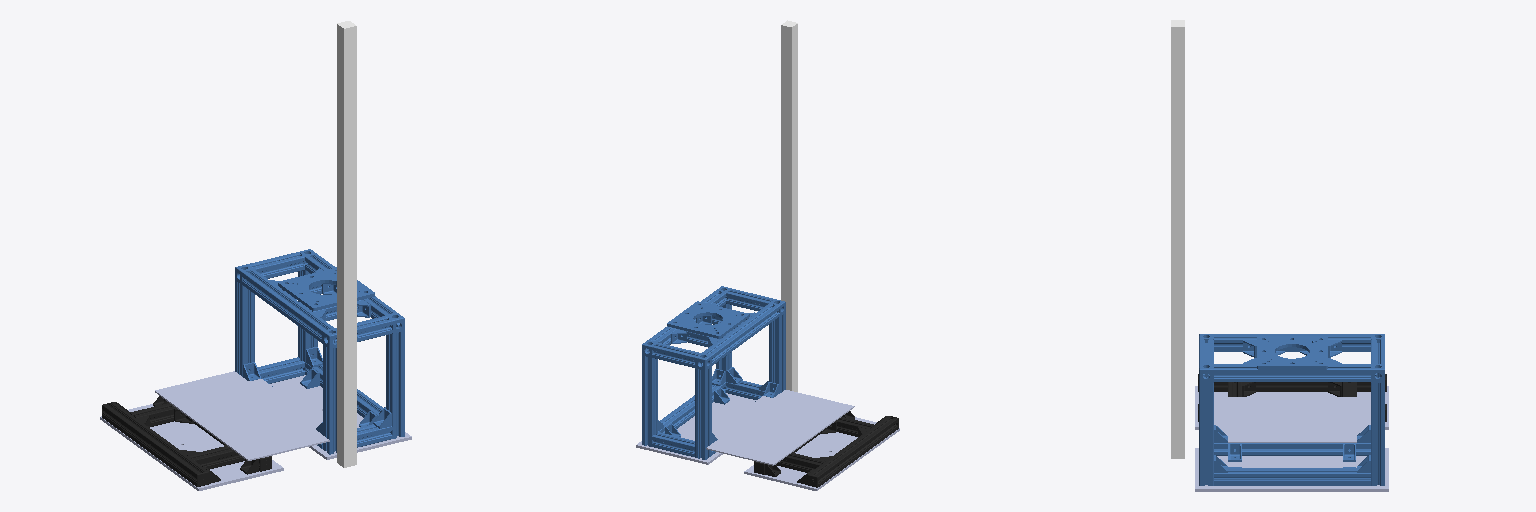
robot.urdf — leeloo_structure:
<?xml version="1.0"?>
<!-- =================================================================================
  leeloo_structure.urdf — Pont statique entre le Ridgeback et le bras Doosan.

  Publié au runtime par un robot_state_publisher dans le namespace `leeloo`
  (tous joints fixes → /leeloo/tf_static). C'est le maillon manquant de l'arbre
  TF unifié : le Ridgeback publie jusqu'à `default_mount`, le Doosan publie
  `dsr01/world → base_link → link_1…`, et cette structure relie
  `default_mount → … → robot_mount → dsr01/world`.

  - `default_mount` est la racine (frame RÉELLEMENT publiée par le Ridgeback :
    riser_link → default_mount, z=0.075). ATTENTION : le leeloo.urdf modèle
    utilise `mid_mount` (z=0.060), qui n'existe PAS sur le robot réel — ne pas
    le réintroduire ici sous peine de casser le parsing RSP.
  - `dsr01/world` est la base du bras (frame dont le Doosan publie les enfants).

  Géométrie identique à la portion structure de leeloo.urdf (source de vérité curobo).
================================================================================= -->
<robot name="leeloo_structure">

  <!-- Racine : frame publiée par le Ridgeback (riser_link → default_mount). -->
  <link name="default_mount"/>

  <link name="structure_base">
    <inertial>
      <origin xyz="0.00053394 -0.00074037 0.057025" rpy="0 0 0" />
      <mass value="0.93175" />
      <inertia ixx="0.025261" ixy="-3.427E-05" ixz="-1.0125E-20" iyy="0.0080646" iyz="-7.6497E-20" izz="0.033322" />
    </inertial>
    <visual>
      <origin xyz="0 0 0" rpy="0 0 0" />
      <geometry>
        <mesh filename="package://urdf_visualizer/meshes/structure_base.STL" />
      </geometry>
      <material name=""><color rgba="0.79216 0.81961 0.93333 1" /></material>
    </visual>
    <collision>
      <origin xyz="0 0 0" rpy="0 0 0" />
      <geometry>
        <mesh filename="package://urdf_visualizer/meshes/structure_base.STL" />
      </geometry>
    </collision>
  </link>
  <joint name="structure_base_joint" type="fixed">
    <origin xyz="0 0 0" rpy="0 0 0" />
    <!-- Frame réellement publiée par le Ridgeback (riser_link → default_mount,
         z=0.075). Le leeloo.urdf modèle utilisait `mid_mount` (z=0.060, absent du
         robot réel) → RSP échouait au parsing. On s'aligne sur la TF physique. -->
    <parent link="default_mount" />
    <child link="structure_base" />
    <axis xyz="0 0 0" />
  </joint>

  <link name="front_plate">
    <inertial>
      <origin xyz="0.0001243 -4.5103E-17 0.0047625" rpy="0 0 0" />
      <mass value="1.7643" />
      <inertia ixx="0.054775" ixy="-9.9446E-19" ixz="1.7219E-20" iyy="0.013677" iyz="-1.2771E-20" izz="0.068426" />
    </inertial>
    <visual>
      <origin xyz="0 0 0" rpy="0 0 0" />
      <geometry>
        <mesh filename="package://urdf_visualizer/meshes/front_plate.STL" />
      </geometry>
      <material name=""><color rgba="0.79216 0.81961 0.93333 1" /></material>
    </visual>
    <collision>
      <origin xyz="0 0 0" rpy="0 0 0" />
      <geometry>
        <mesh filename="package://urdf_visualizer/meshes/front_plate.STL" />
      </geometry>
    </collision>
  </link>
  <joint name="front_plate_joint" type="fixed">
    <origin xyz="0.26401 0 0" rpy="0 0 0" />
    <parent link="structure_base" />
    <child link="front_plate" />
    <axis xyz="0 0 0" />
  </joint>

  <link name="front_structure">
    <inertial>
      <origin xyz="0 -0.0047667 0.21635" rpy="0 0 0" />
      <mass value="3.0506" />
      <inertia ixx="0.030259" ixy="-3.6628E-11" ixz="1.9467E-16" iyy="0.010629" iyz="1.9469E-16" izz="0.02365" />
    </inertial>
    <visual>
      <origin xyz="0 0 0" rpy="0 0 0" />
      <geometry>
        <mesh filename="package://urdf_visualizer/meshes/front_structure.STL" />
      </geometry>
      <material name=""><color rgba="0.33725 0.52941 0.75686 1" /></material>
    </visual>
    <collision>
      <origin xyz="0 0 0" rpy="0 0 0" />
      <geometry>
        <mesh filename="package://urdf_visualizer/meshes/front_structure.STL" />
      </geometry>
    </collision>
  </link>
  <joint name="front_structure_joint" type="fixed">
    <origin xyz="0 0 0.011925" rpy="0 0 0" />
    <parent link="front_plate" />
    <child link="front_structure" />
    <axis xyz="0 0 0" />
  </joint>

  <link name="robot_mount">
    <inertial>
      <origin xyz="3.6942E-09 1.9231E-09 -0.0056497" rpy="0 0 0" />
      <mass value="0.44151" />
      <inertia ixx="0.0021724" ixy="-9.242E-07" ixz="1.3802E-12" iyy="0.0021724" iyz="7.5078E-13" izz="0.0043355" />
    </inertial>
    <visual>
      <origin xyz="0 0 0" rpy="0 0 0" />
      <geometry>
        <mesh filename="package://urdf_visualizer/meshes/robot_mount.STL" />
      </geometry>
      <material name=""><color rgba="0.33725 0.52941 0.75686 1" /></material>
    </visual>
    <collision>
      <origin xyz="0 0 0" rpy="0 0 0" />
      <geometry>
        <mesh filename="package://urdf_visualizer/meshes/robot_mount.STL" />
      </geometry>
    </collision>
  </link>
  <joint name="robot_mount_joint" type="fixed">
    <origin xyz="0.0225 0 0.41385" rpy="0 0 0" />
    <parent link="front_structure" />
    <child link="robot_mount" />
    <axis xyz="0 0 0" />
  </joint>

  <link name="rear_plate">
    <inertial>
      <origin xyz="-8.8189E-05 -2.3592E-16 0.0047625" rpy="0 0 0" />
      <mass value="1.7661" />
      <inertia ixx="0.054676" ixy="-4.2446E-18" ixz="-8.5997E-20" iyy="0.01368" iyz="3.6207E-20" izz="0.068328" />
    </inertial>
    <visual>
      <origin xyz="0 0 0" rpy="0 0 0" />
      <geometry>
        <mesh filename="package://urdf_visualizer/meshes/rear_plate.STL" />
      </geometry>
      <material name=""><color rgba="0.79216 0.81961 0.93333 1" /></material>
    </visual>
    <collision>
      <origin xyz="0 0 0" rpy="0 0 0" />
      <geometry>
        <mesh filename="package://urdf_visualizer/meshes/rear_plate.STL" />
      </geometry>
    </collision>
  </link>
  <joint name="rear_plate_joint" type="fixed">
    <origin xyz="-0.19368 0 0" rpy="0 0 0" />
    <parent link="structure_base" />
    <child link="rear_plate" />
    <axis xyz="0 0 0" />
  </joint>

  <link name="rear_strucuture">
    <inertial>
      <origin xyz="-1.1102E-16 -9.3675E-17 0.020184" rpy="0 0 0" />
      <mass value="1.0432" />
      <inertia ixx="0.017816" ixy="1.1339E-11" ixz="-1.204E-20" iyy="0.00087091" iyz="2.1262E-20" izz="0.018287" />
    </inertial>
    <visual>
      <origin xyz="0 0 0" rpy="0 0 0" />
      <geometry>
        <mesh filename="package://urdf_visualizer/meshes/rear_strucuture.STL" />
      </geometry>
      <material name=""><color rgba="0.19608 0.19608 0.19608 1" /></material>
    </visual>
    <collision>
      <origin xyz="0 0 0" rpy="0 0 0" />
      <geometry>
        <mesh filename="package://urdf_visualizer/meshes/rear_strucuture.STL" />
      </geometry>
    </collision>
  </link>
  <joint name="rear_strucuture_joint" type="fixed">
    <origin xyz="-0.0174 0 0.011025" rpy="0 0 0" />
    <parent link="rear_plate" />
    <child link="rear_strucuture" />
    <axis xyz="0 0 0" />
  </joint>

  <link name="controler">
    <inertial>
      <origin xyz="-0.0090029 0.0028411 0.16946" rpy="0 0 0" />
      <mass value="1.2104" />
      <inertia ixx="0.0073057" ixy="5.4395E-06" ixz="4.7115E-06" iyy="0.0041492" iyz="-0.00018983" izz="0.0063749" />
    </inertial>
    <visual>
      <origin xyz="0 0 0" rpy="0 0 0" />
      <geometry>
        <mesh filename="package://urdf_visualizer/meshes/controler.STL" />
      </geometry>
      <material name=""><color rgba="0.75294 0.75294 0.75294 1" /></material>
    </visual>
    <collision>
      <origin xyz="0 0 0" rpy="0 0 0" />
      <geometry>
        <mesh filename="package://urdf_visualizer/meshes/controler.STL" />
      </geometry>
    </collision>
  </link>
  <joint name="controler_joint" type="fixed">
    <origin xyz="-0.046276 -0.039281 0.0435" rpy="0 0 -0.0052941" />
    <parent link="rear_strucuture" />
    <child link="controler" />
    <axis xyz="0 0 0" />
  </joint>

  <link name="camera_mount">
    <inertial>
      <origin xyz="0 0 0" rpy="0 0 0" />
      <mass value="0" />
      <inertia ixx="0" ixy="0" ixz="0" iyy="0" iyz="0" izz="0" />
    </inertial>
    <visual>
      <origin xyz="0 0 0" rpy="0 0 0" />
      <geometry>
        <mesh filename="package://urdf_visualizer/meshes/camera_mount.STL" />
      </geometry>
      <material name=""><color rgba="1 1 1 1" /></material>
    </visual>
    <collision>
      <origin xyz="0 0 0" rpy="0 0 0" />
      <geometry>
        <mesh filename="package://urdf_visualizer/meshes/camera_mount.STL" />
      </geometry>
    </collision>
  </link>
  <joint name="camera_mount_joint" type="fixed">
    <origin xyz="0.15151 -0.36 0" rpy="0 0 0" />
    <parent link="structure_base" />
    <child link="camera_mount" />
    <axis xyz="0 0 0" />
  </joint>

  <!-- Base du bras Doosan : frame dont le Doosan publie les enfants (base_0 → link1).
       Ici on ne fournit que la transfo entrante robot_mount → base_0 (identité). -->
  <link name="dsr01/world"/>
  <joint name="arm_mount_joint" type="fixed">
    <origin xyz="0 0 0" rpy="0 0 0" />
    <parent link="robot_mount" />
    <child link="dsr01/world" />
  </joint>

</robot>

--- Render facts (derived) ---
3 views of the same robot in one strip: view 1: azimuth 30°, elevation 25°; view 2: azimuth 150°, elevation 25°; view 3: azimuth 270°, elevation 25° (orthographic).
Model leeloo_structure with 10 links and 9 joints (9 fixed), rooted at default_mount, posed every joint at zero.
Visible links, largest first — view 1: front_structure, camera_mount, structure_base, rear_strucuture, rear_plate, front_plate, robot_mount; view 2: front_structure, structure_base, camera_mount, rear_strucuture, rear_plate, robot_mount, front_plate; view 3: front_structure, structure_base, camera_mount, front_plate, robot_mount, rear_strucuture, rear_plate.
Boxes of the visible links, box(x1,y1,x2,y2) form: front_structure: box(235, 249, 404, 454); camera_mount: box(337, 21, 356, 467); structure_base: box(155, 371, 329, 460); rear_strucuture: box(102, 396, 271, 486); rear_plate: box(100, 404, 283, 490); front_plate: box(270, 375, 411, 459); robot_mount: box(278, 267, 374, 310); front_structure: box(642, 286, 785, 459); structure_base: box(706, 390, 854, 465); camera_mount: box(781, 20, 797, 391); rear_strucuture: box(754, 411, 898, 487); rear_plate: box(744, 417, 899, 490); robot_mount: box(667, 301, 749, 338); front_plate: box(636, 393, 756, 464); front_structure: box(1199, 334, 1384, 485); structure_base: box(1214, 397, 1370, 442); camera_mount: box(1171, 20, 1184, 458); front_plate: box(1195, 448, 1388, 491); robot_mount: box(1257, 336, 1327, 369); rear_strucuture: box(1198, 374, 1386, 421); rear_plate: box(1195, 386, 1388, 429).
Size in the robot's own frame: 0.7625 by 0.6873 by 1.5 metres.
Meshes: 8 distinct files referenced, 7 mesh visuals loaded (7 binary STL); not drawn: 1 (reference not matched to a file when rendering).
